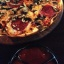pizza: (1, 1, 47, 42)
